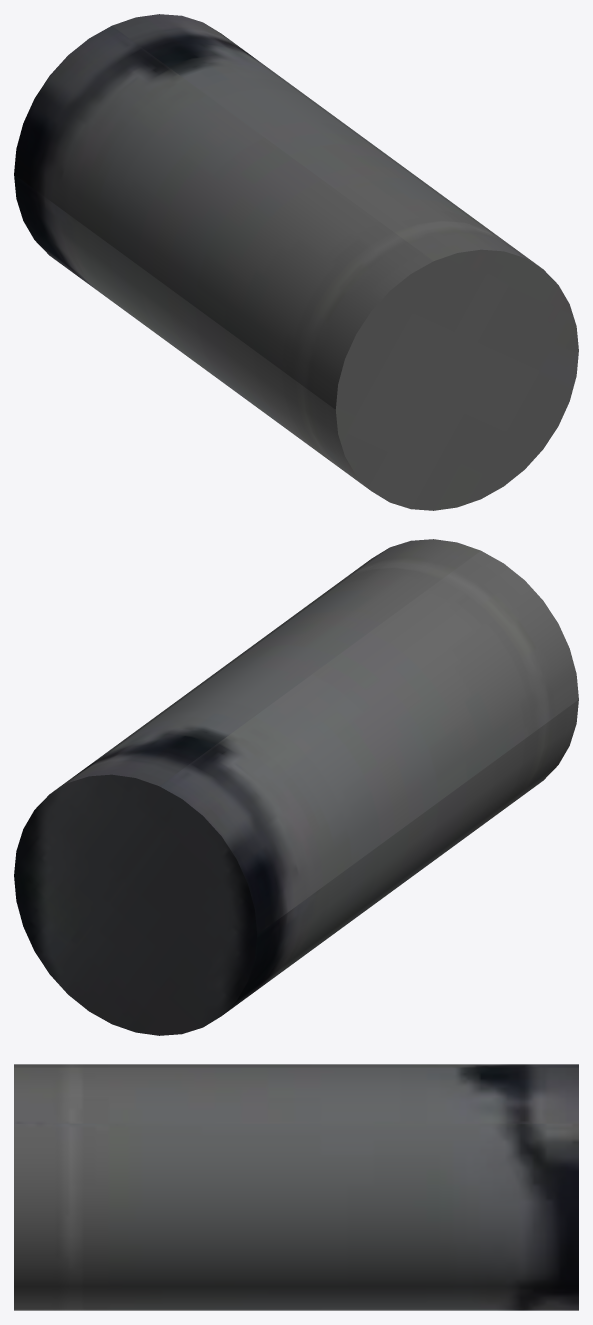
File: housing__caster_stem_3.glb
3 renders of one model, top to bottom at view 1: azimuth 30°, elevation 25°; view 2: azimuth 150°, elevation 25°; view 3: azimuth 270°, elevation 25°, orthographic. The views are drawn at different scales.
Parts seen in each view (by area): view 1: geometry_0; view 2: geometry_0; view 3: geometry_0.
Boxes of the visible parts, x1,y1,x2,y2 form: geometry_0: (14, 14, 578, 510); geometry_0: (14, 539, 578, 1035); geometry_0: (14, 1064, 578, 1310).
Size of the model in its own units: 0.024 by 0.024 by 0.055.
Materials: 1 (1 with a texture image).
